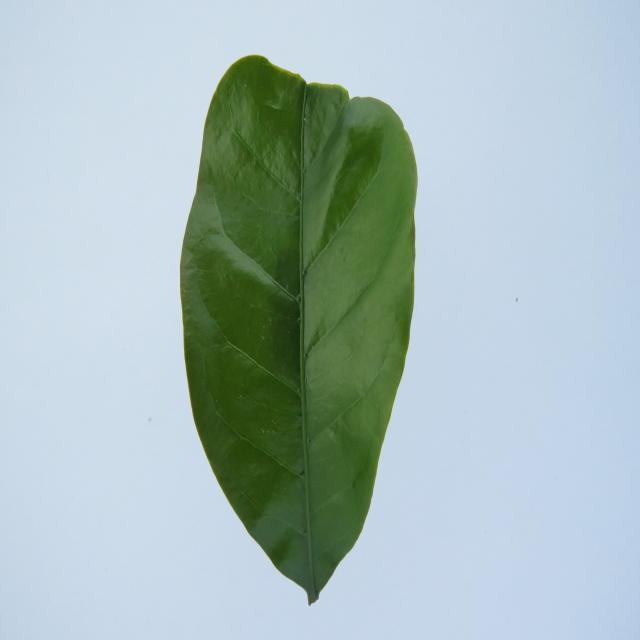DeficienciaNutricional-Boro: (181, 57, 418, 603)
